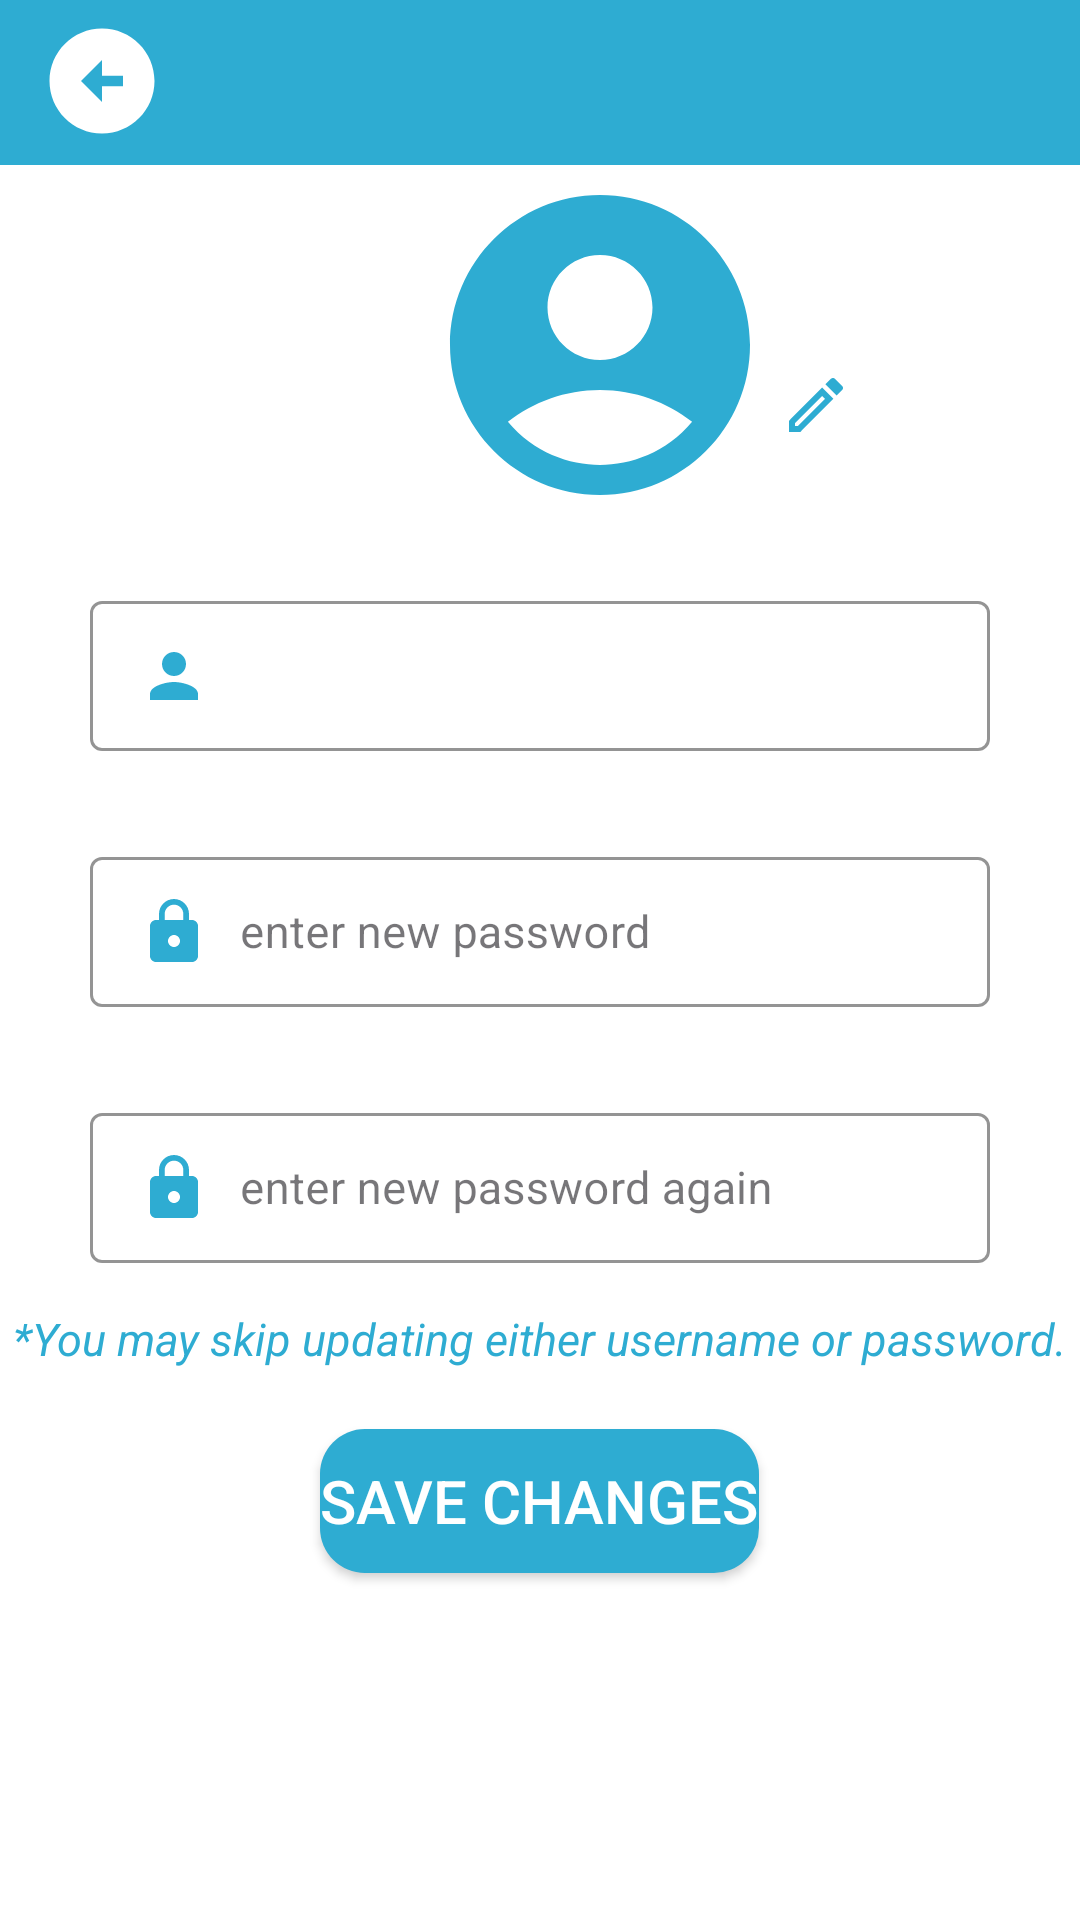

Icon bounding boxes for this 1080w x 1920h phone screenshot, format [x1,y1,x2,y2]:
back arrow: [49,28,155,134]
edit: [789,378,843,432]
profile pic: [450,195,750,495]
